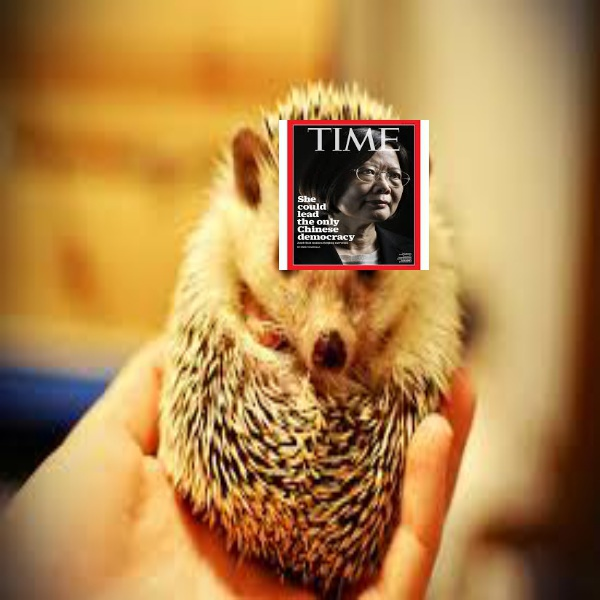time_cover: (278, 112, 422, 276)
